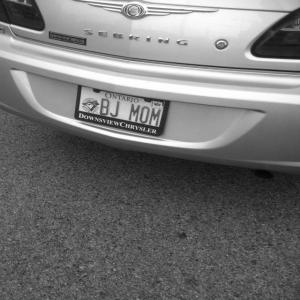Plate: (74, 85, 169, 136)
